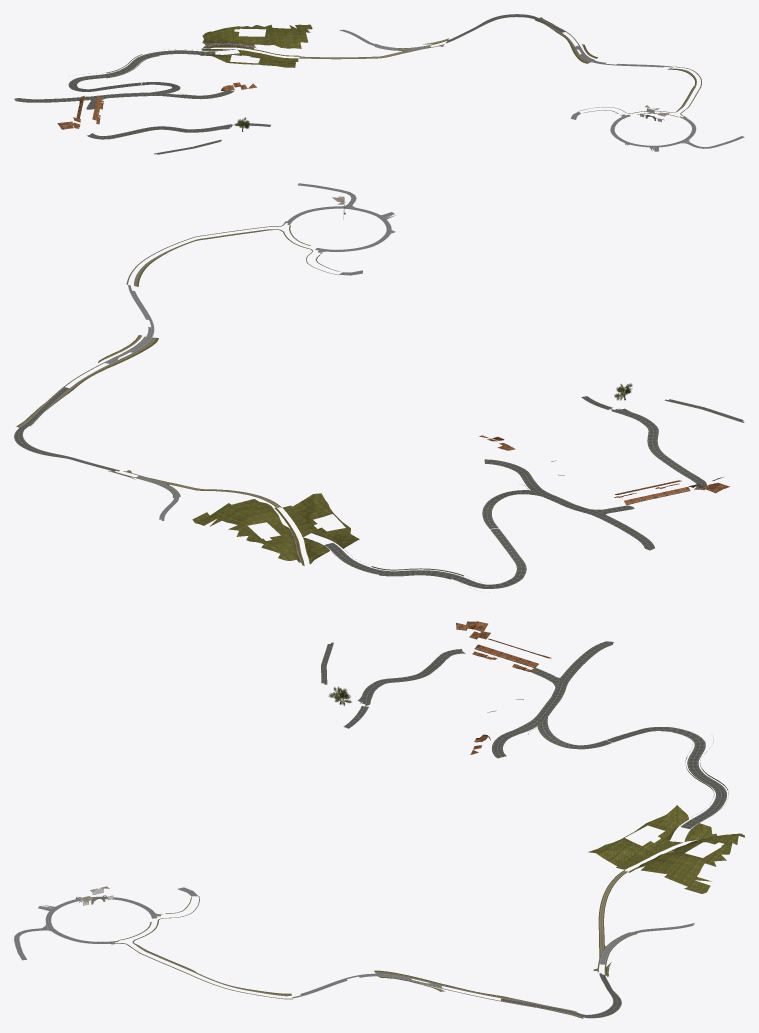
File: collisions.glb
3 renders of one model, top to bottom at view 1: azimuth 30°, elevation 25°; view 2: azimuth 150°, elevation 25°; view 3: azimuth 270°, elevation 25°, orthographic. The views are drawn at different scales.
Visible parts, largest first — view 1: unit_028_inst_002_mdl_004_lod_000_material_104_0; view 2: unit_028_inst_002_mdl_004_lod_000_material_104_0; view 3: unit_028_inst_002_mdl_004_lod_000_material_104_0.
Part boxes in pixels (box(x1,y1,x2,y2)): unit_028_inst_002_mdl_004_lod_000_material_104_0: box(14, 14, 744, 154); unit_028_inst_002_mdl_004_lod_000_material_104_0: box(14, 183, 744, 592); unit_028_inst_002_mdl_004_lod_000_material_104_0: box(14, 621, 744, 1018).
Bounding box in the file's own units: 17.28 × 2.17 × 15.15.
11 materials, 11 textured.
